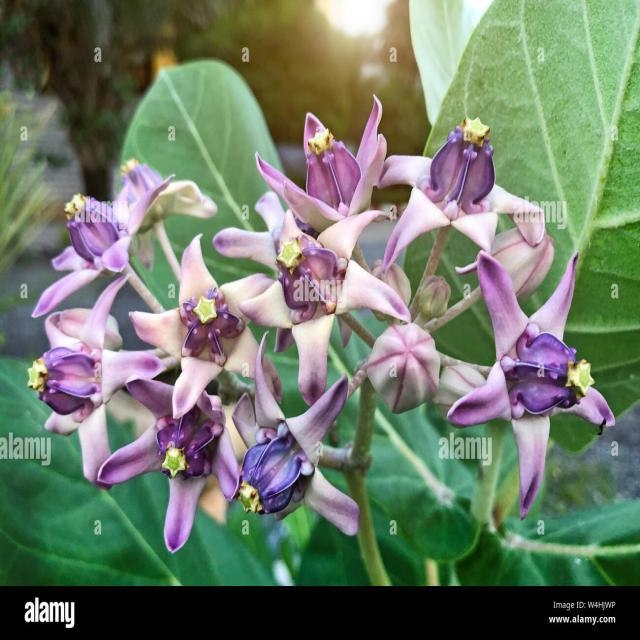Poisonous-Calatropis: (32, 96, 638, 556), (474, 0, 640, 423)
